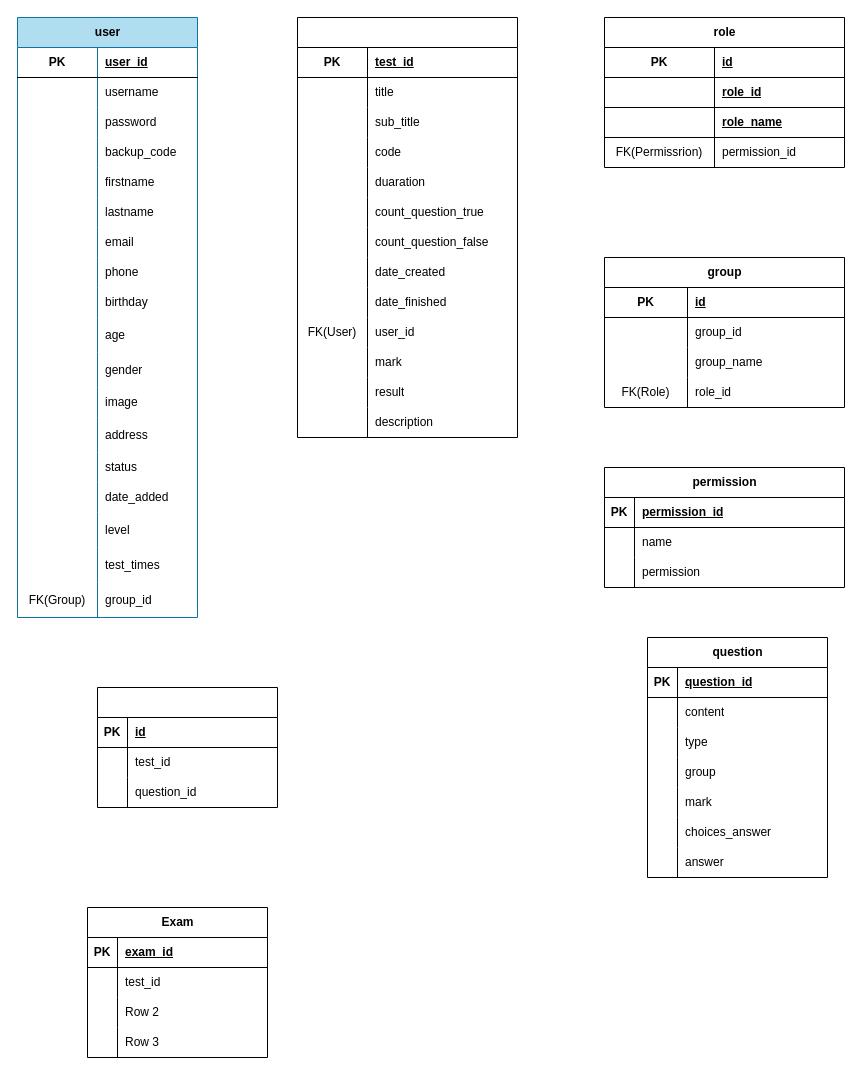
The diagram is 862 pixels wide and 1075 high, and some of its shapes have lost their labels. Each missing label, with the box of its shape:
test_information: (296, 16, 518, 438)
test_question: (96, 686, 278, 808)
